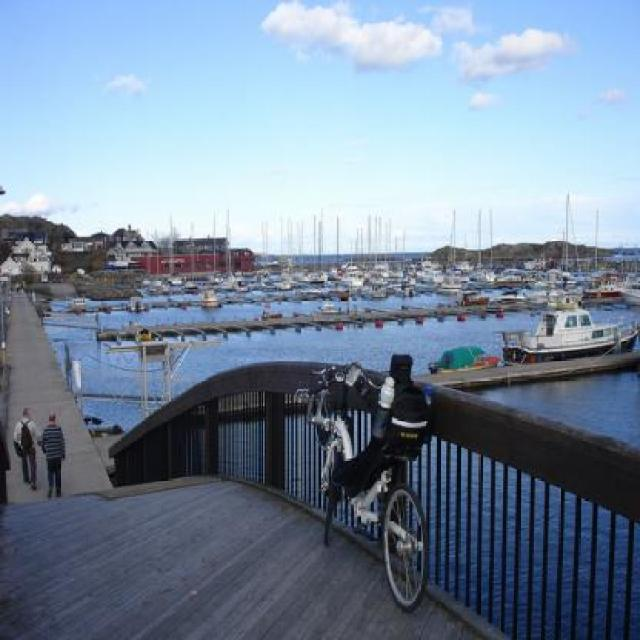ship: (494, 285, 638, 360), (194, 278, 226, 312)
